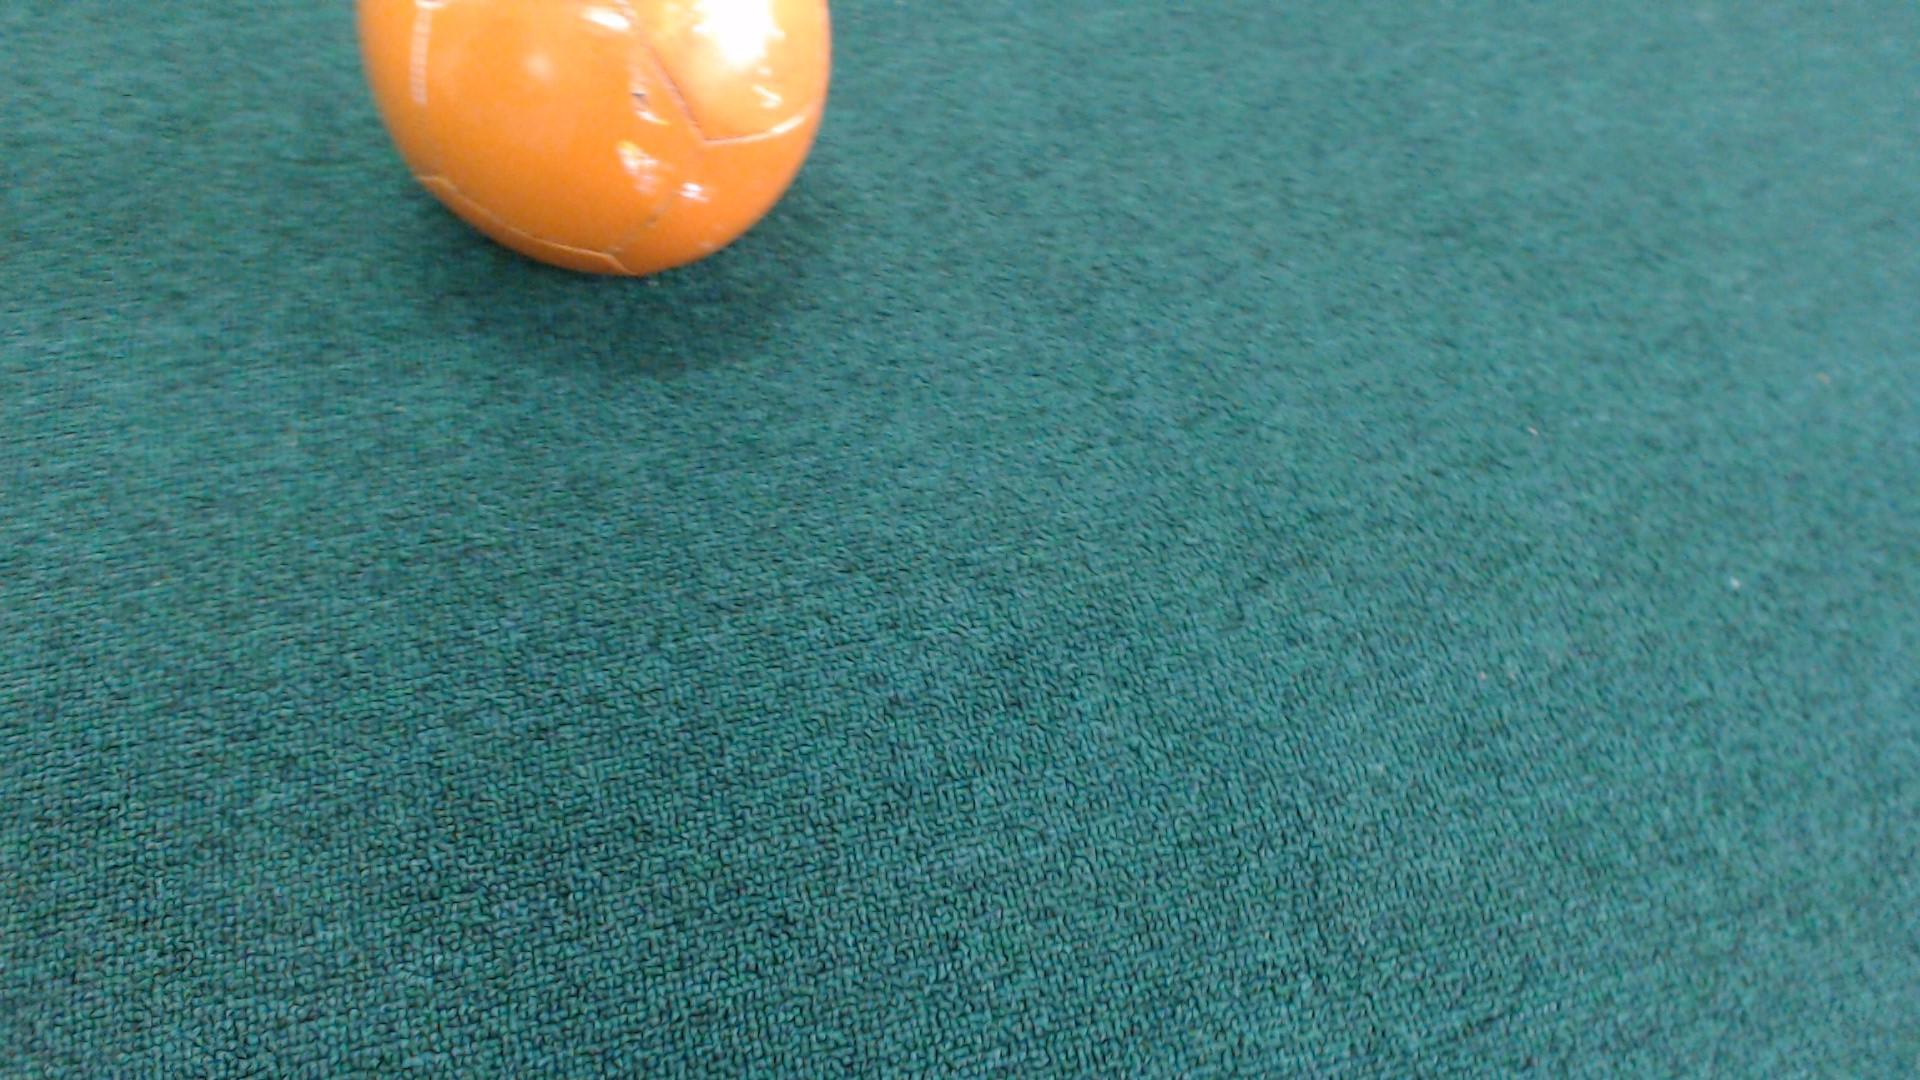bola: (328, 0, 852, 353)
